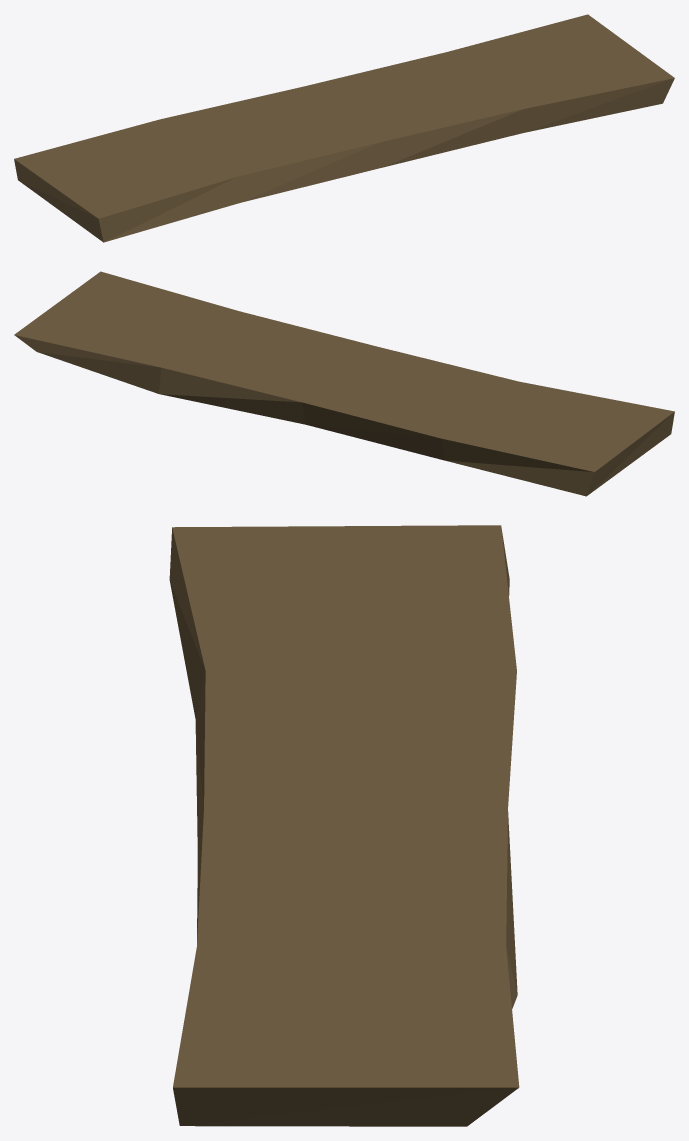
File: Brett 1.fbx
3 renders of one model, top to bottom at view 1: azimuth 30°, elevation 25°; view 2: azimuth 150°, elevation 25°; view 3: azimuth 270°, elevation 25°, orthographic. The views are drawn at different scales.
Parts seen in each view (by area): view 1: Würfel8_1; view 2: Würfel8_1; view 3: Würfel8_1.
Part boxes in pixels (x1,y1,x2,y2): Würfel8_1: [14, 14, 674, 242]; Würfel8_1: [14, 271, 674, 496]; Würfel8_1: [169, 525, 519, 1126].
Size of the model in its own units: 149 by 6 by 39.18.
